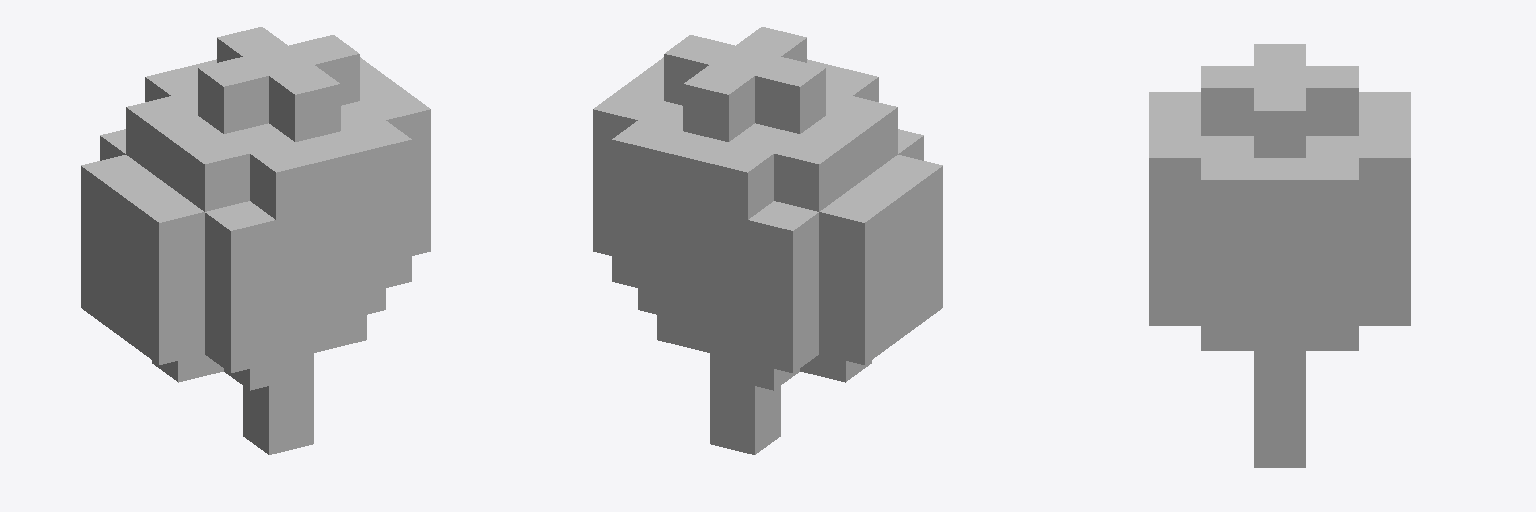
File: Oak_1.obj
The picture shows the model from 3 angles: view 1: azimuth 30°, elevation 25°; view 2: azimuth 150°, elevation 25°; view 3: azimuth 270°, elevation 25°; orthographic projection.
Visible parts, largest first — view 1: _(2)__6_-60_11_to_12_319_15; view 2: _(2)__6_-60_11_to_12_319_15; view 3: _(2)__6_-60_11_to_12_319_15.
Boxes of the visible parts, <box> form: _(2)__6_-60_11_to_12_319_15: <box>81,27,430,454</box>; _(2)__6_-60_11_to_12_319_15: <box>593,27,942,454</box>; _(2)__6_-60_11_to_12_319_15: <box>1149,44,1410,467</box>.
Size of the model in its own units: 6 by 8 by 5.